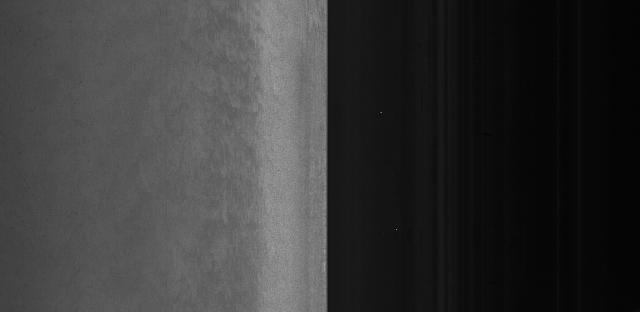silk_spot: (202, 54, 287, 213)
